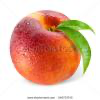Peach leaf: (56, 27, 91, 76), (57, 19, 96, 34)
